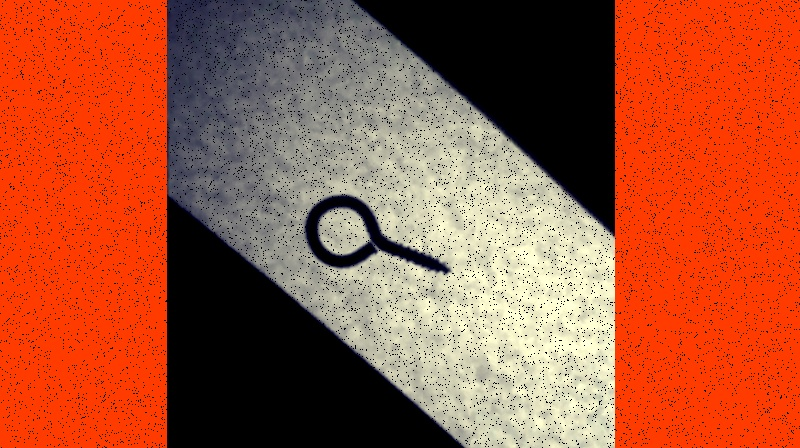O001: (302, 188, 454, 276)
